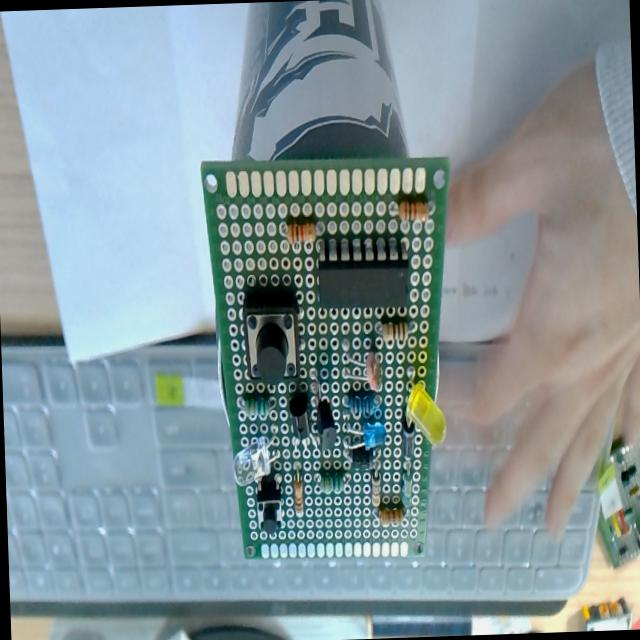IC: (316, 238, 408, 314)
cds: (340, 346, 380, 392)
diode: (400, 412, 416, 458), (349, 444, 374, 470)
led: (404, 381, 448, 448), (231, 435, 272, 487), (345, 419, 386, 451)
resistor: (346, 389, 381, 422), (396, 197, 428, 224), (242, 392, 268, 420), (374, 504, 404, 526), (288, 221, 316, 244), (382, 320, 407, 344), (320, 468, 344, 492), (292, 474, 304, 514), (371, 473, 382, 507)
switch: (242, 286, 302, 384), (256, 477, 282, 534)
transistor: (316, 398, 336, 456), (289, 394, 310, 442)
